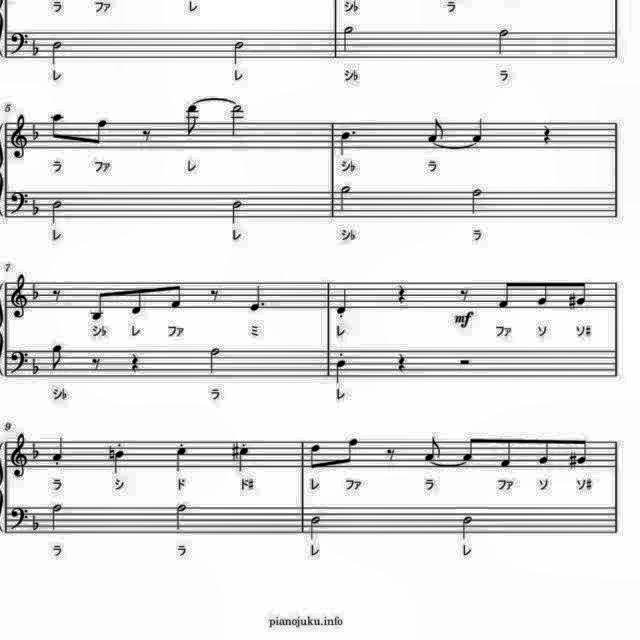Bass-clef: (8, 29, 30, 60), (8, 347, 30, 377), (7, 189, 29, 219), (8, 504, 30, 534)
Bemol: (30, 509, 42, 537), (30, 119, 42, 145), (30, 34, 42, 58), (30, 278, 42, 302), (30, 353, 42, 375), (29, 441, 41, 463), (30, 196, 42, 217)
Diez: (564, 288, 576, 312), (230, 440, 242, 464)
Eighth-note: (338, 434, 362, 470), (85, 286, 108, 322), (494, 276, 516, 312), (128, 283, 150, 317), (497, 434, 517, 471), (180, 104, 200, 140), (49, 110, 70, 144), (88, 118, 110, 150), (167, 278, 187, 312), (420, 436, 444, 464), (423, 116, 447, 144), (534, 436, 554, 468), (461, 432, 481, 464), (532, 276, 552, 308), (48, 342, 68, 374), (307, 442, 325, 474), (574, 434, 590, 466), (574, 278, 590, 308)
Eighth-rest: (456, 282, 474, 304), (382, 444, 400, 466), (205, 284, 222, 306), (90, 354, 106, 374), (48, 286, 64, 306), (138, 126, 154, 146)
Half-note: (228, 102, 248, 138), (227, 39, 249, 70), (493, 24, 513, 58), (340, 21, 360, 55), (336, 184, 356, 216), (459, 514, 479, 546), (174, 501, 193, 534), (47, 501, 65, 535), (226, 197, 246, 227), (206, 344, 224, 376), (307, 512, 325, 544), (467, 186, 485, 218), (47, 197, 65, 227), (47, 39, 65, 69)
Half-rest: (456, 356, 476, 368)
Quarter-dot: (336, 128, 360, 158), (249, 282, 271, 314)
Quarter-note: (335, 286, 353, 320), (234, 442, 253, 473), (49, 436, 67, 468), (468, 116, 488, 144), (173, 444, 191, 474), (112, 446, 130, 476), (334, 356, 351, 384)
Quarter-rest: (392, 348, 410, 374), (393, 278, 409, 306), (538, 121, 554, 147), (128, 350, 144, 374)
Treble-clef: (7, 114, 29, 162), (8, 272, 28, 321), (8, 432, 28, 480)
